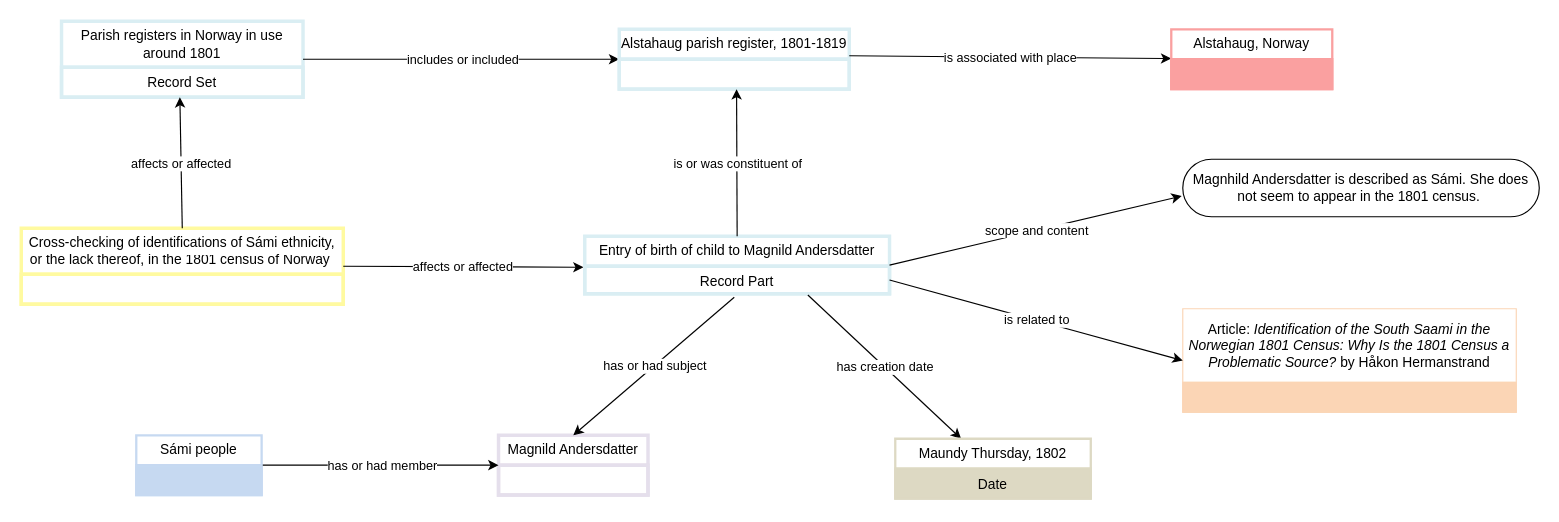
Image size: 1559x522. Some labels were removed from this diagram. Each missing label, with the centre of its shape:
Activity: point 181,288
Group: point 198,479
Person: point 572,479
Place: point 1251,73
Record: point 733,73
Thing: point 1349,396
